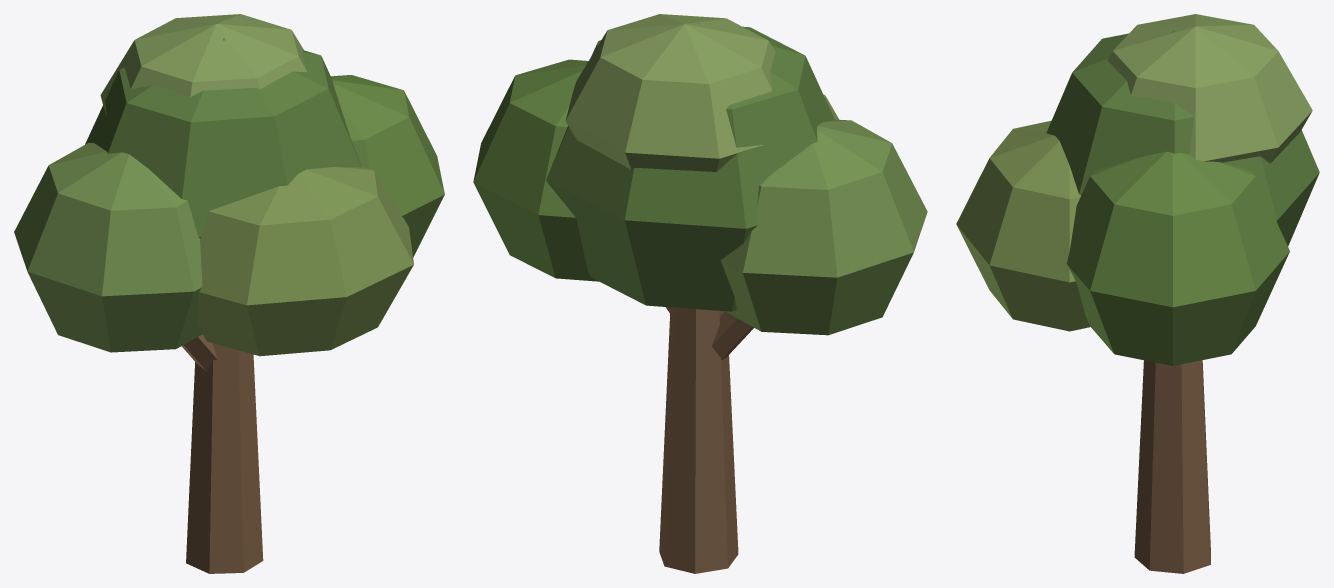
File: tree-oak.glb
The picture shows the model from 3 angles, left to right: view 1: azimuth 30°, elevation 25°; view 2: azimuth 150°, elevation 25°; view 3: azimuth 270°, elevation 25°; orthographic projection. The views are drawn at different scales.
Visible parts, largest first — view 1: tree-oak_mesh; view 2: tree-oak_mesh; view 3: tree-oak_mesh.
Boxes of the visible parts, x1,y1,x2,y2 form: tree-oak_mesh: (14,14,444,573); tree-oak_mesh: (473,14,927,573); tree-oak_mesh: (956,14,1319,573).
Size of the model in its own units: 2.78 by 3.36 by 2.08.
